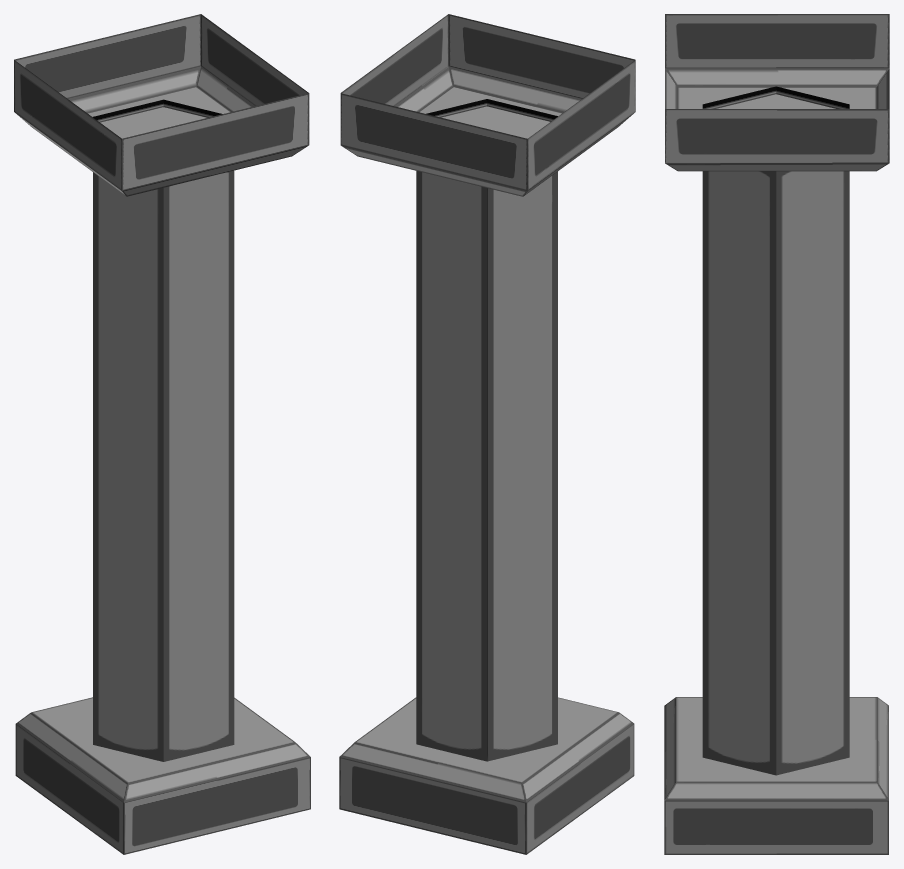
Rendered from Pillar.fbx.
3 views of the same model, side by side, from view 1: azimuth 30°, elevation 25°; view 2: azimuth 150°, elevation 25°; view 3: azimuth 270°, elevation 25° (orthographic). The views are drawn at different scales.
Visible parts, largest first — view 1: pCylinder2; view 2: pCylinder2; view 3: pCylinder2.
Part boxes in pixels (x1,y1,x2,y2): pCylinder2: (14,14,310,854); pCylinder2: (339,14,635,854); pCylinder2: (664,14,889,854).
Bounding box in the file's own units: 3.69 × 13.38 × 3.66.
Materials: 1 (1 with a texture image).
